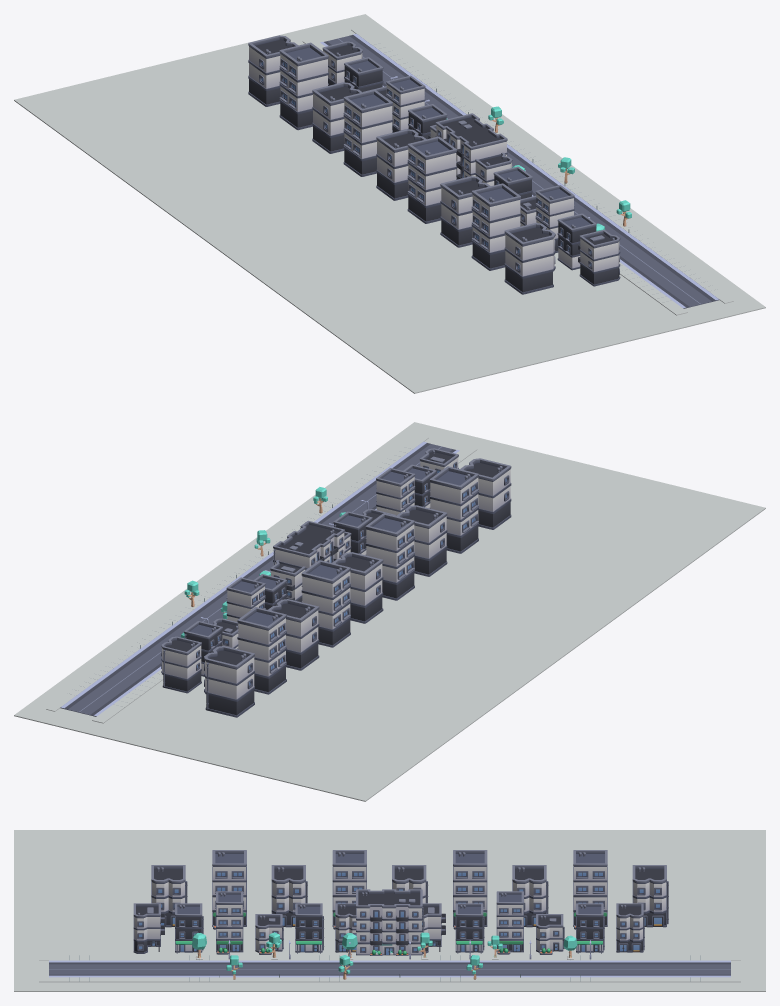
File: neighbourhood.glb
3 renders of one model, top to bottom at view 1: azimuth 30°, elevation 25°; view 2: azimuth 150°, elevation 25°; view 3: azimuth 270°, elevation 25°, orthographic. The views are drawn at different scales.
Visible parts, largest first — view 1: Neighbourhood_Static; view 2: Neighbourhood_Static; view 3: Neighbourhood_Static.
Boxes of the visible parts, <box> form: Neighbourhood_Static: <box>14,14,765,393</box>; Neighbourhood_Static: <box>14,422,765,801</box>; Neighbourhood_Static: <box>14,830,765,991</box>.
Bounding box in the file's own units: 76 × 14.16 × 150.
Materials: 17 (8 with a texture image).
